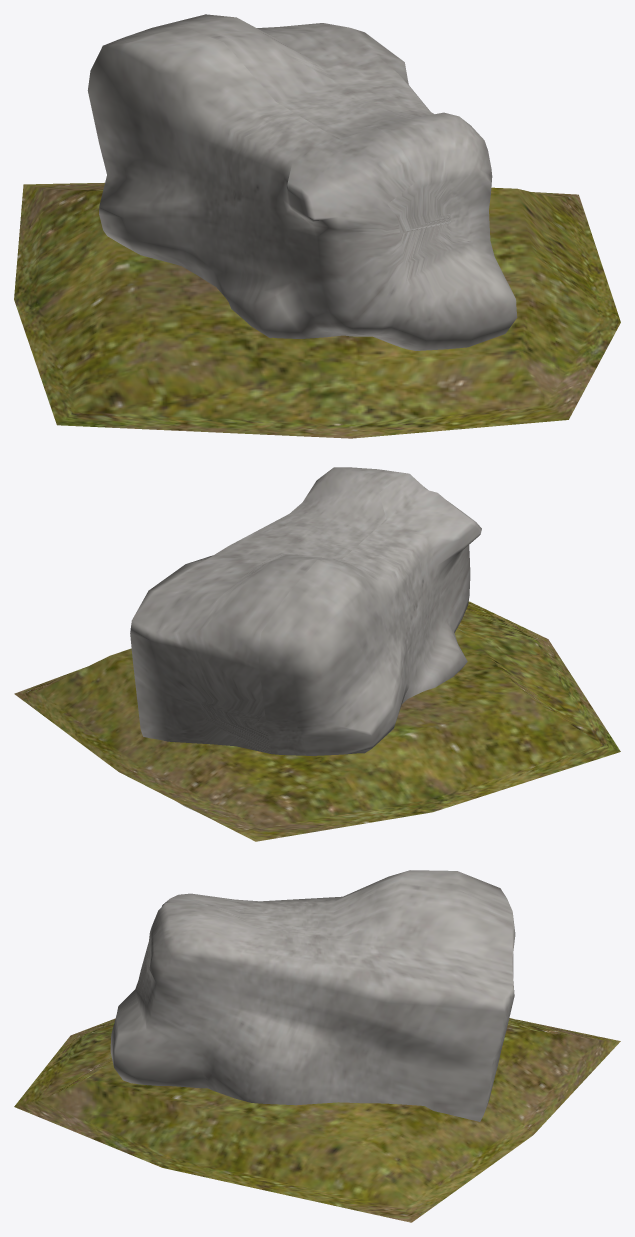
The model's file is rock_small.fbx.
3 views of the same model, one above another, from view 1: azimuth 30°, elevation 25°; view 2: azimuth 150°, elevation 25°; view 3: azimuth 270°, elevation 25° (orthographic). The views are drawn at different scales.
Parts seen in each view (by area): view 1: rock_small; view 2: rock_small; view 3: rock_small.
Boxes of the visible parts, <box> form: rock_small: <box>14,14,620,438</box>; rock_small: <box>14,467,620,841</box>; rock_small: <box>14,870,620,1222</box>.
Bounding box in the file's own units: 110 × 51.87 × 115.
Materials: 1 (1 with a texture image).
